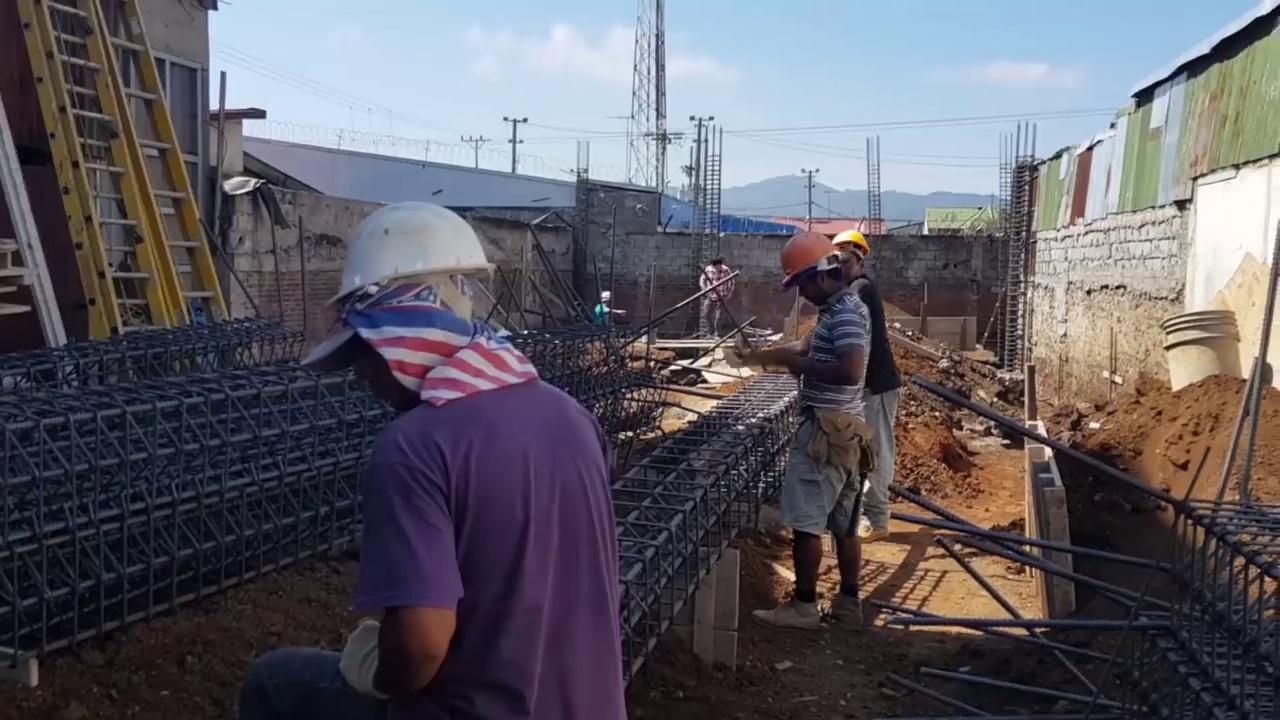helmet: (324, 202, 495, 309), (780, 231, 839, 286), (831, 230, 870, 258), (600, 290, 610, 303)
helmet-off: (710, 256, 723, 273)
helmet-on: (322, 204, 501, 406), (781, 231, 849, 308), (831, 229, 870, 281), (601, 290, 611, 307)
person: (230, 203, 626, 718), (755, 232, 872, 557), (831, 229, 900, 542), (700, 255, 735, 325), (594, 289, 610, 327)
